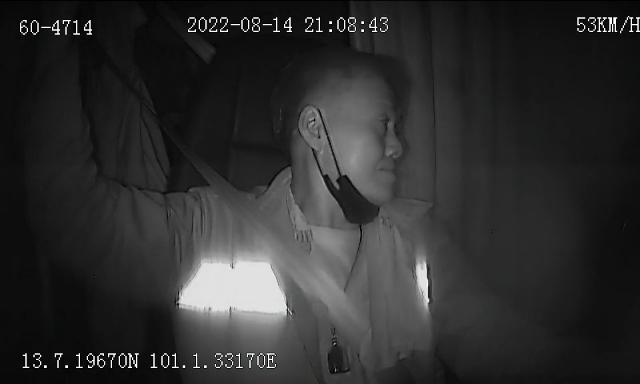Seatbelt: (153, 138, 370, 338)
